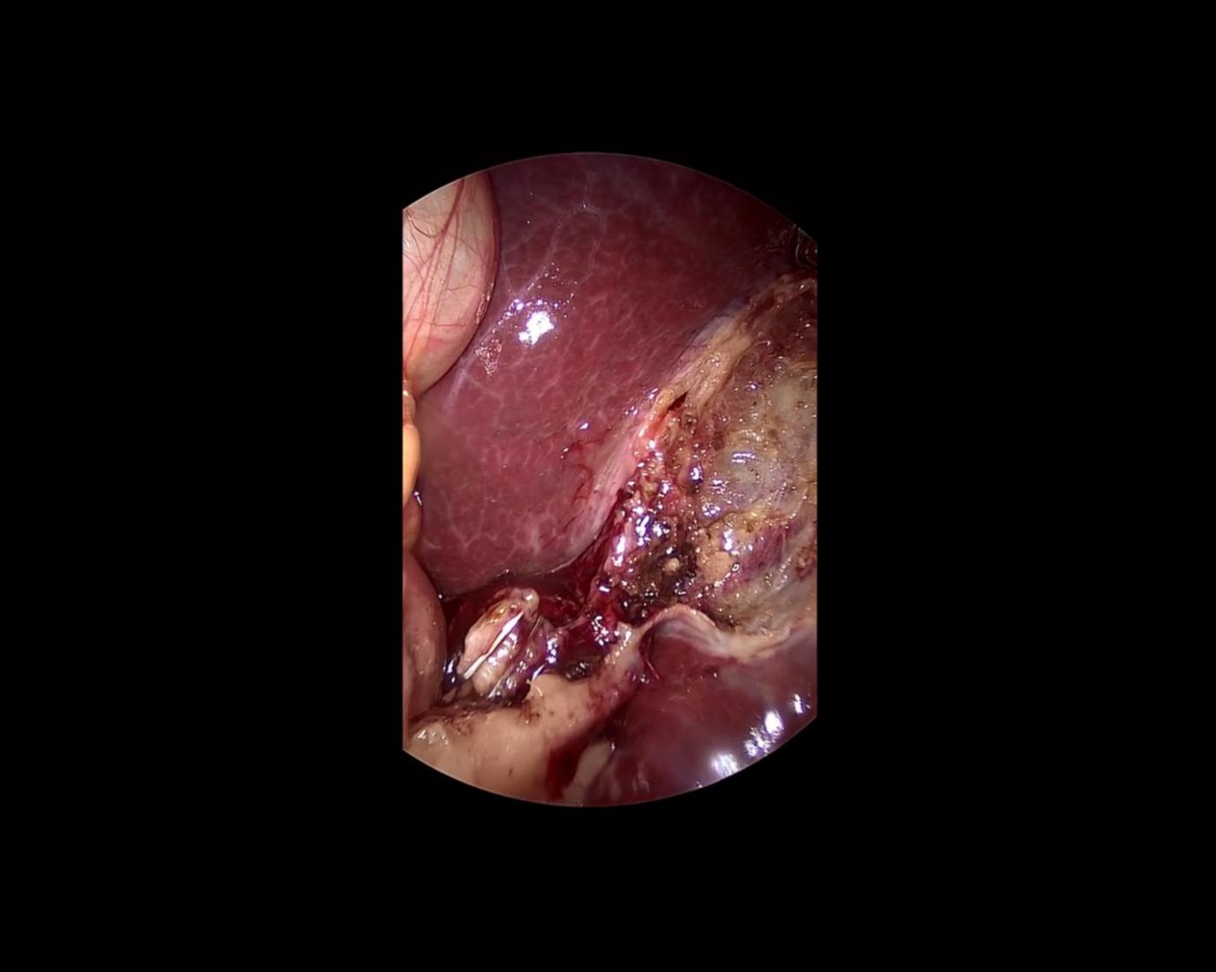Liver: (275, 68, 793, 651), (510, 581, 844, 820)
